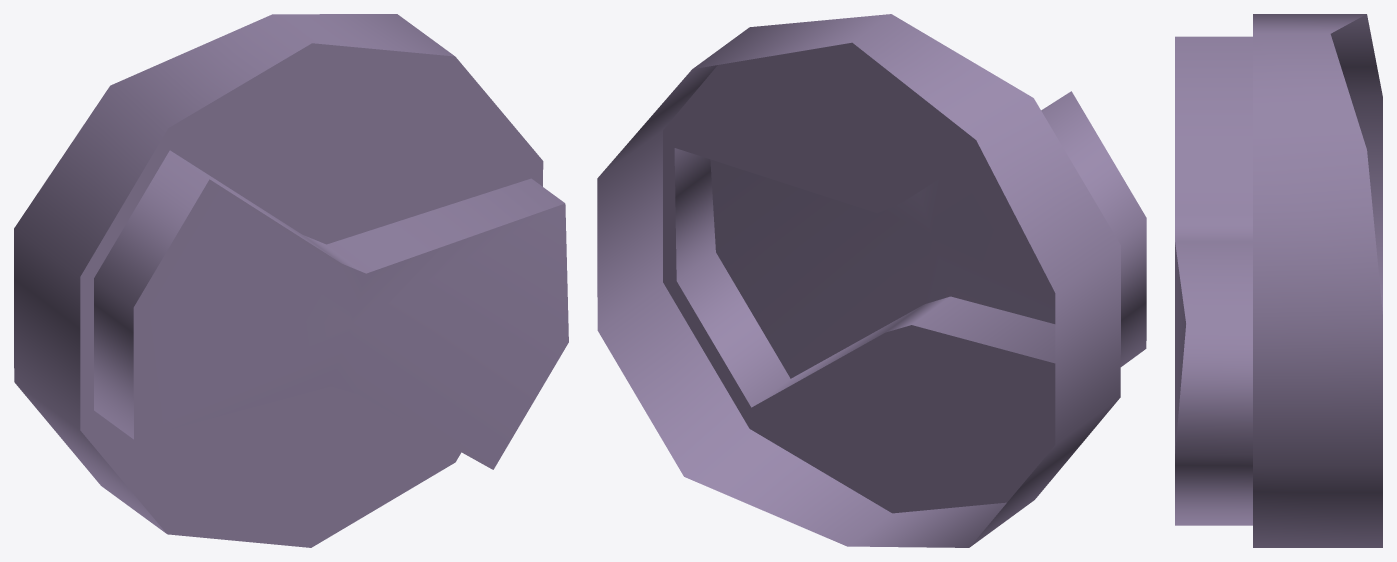
File: Boton_P.fbx
3 renders of one model, left to right at view 1: azimuth 30°, elevation 25°; view 2: azimuth 150°, elevation 25°; view 3: azimuth 270°, elevation 25°, orthographic.
Visible parts, largest first — view 1: Boton_P; view 2: Boton_P; view 3: Boton_P.
Boxes of the visible parts, x1=… form: Boton_P: x1=14, y1=14, x2=568, y2=547; Boton_P: x1=597, y1=14, x2=1146, y2=547; Boton_P: x1=1175, y1=14, x2=1382, y2=547.
Size of the model in its own units: 0.021 by 0.0218 by 0.00831.
